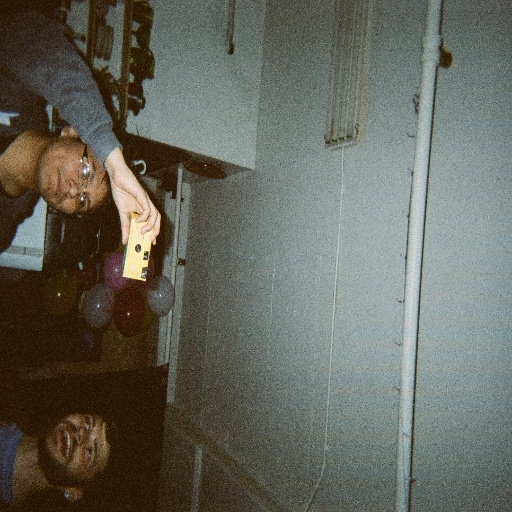hand: (89, 138, 149, 262)
